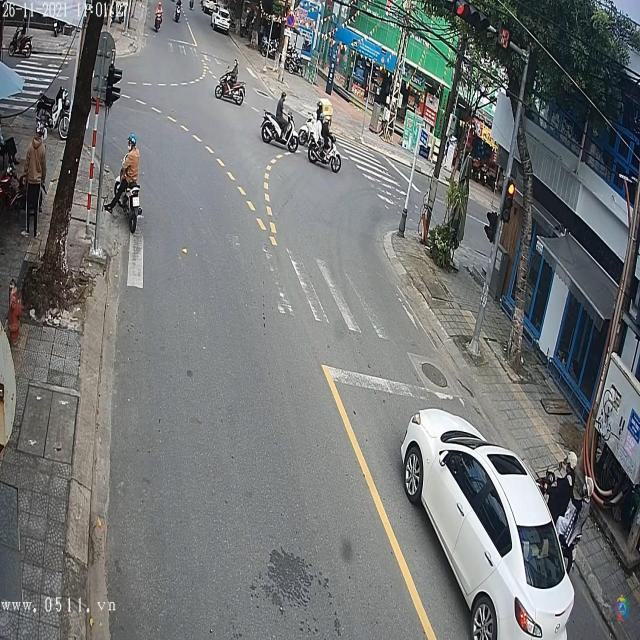car: (399, 406, 582, 639)
motorcycle: (112, 156, 145, 233), (304, 126, 340, 173), (261, 110, 297, 149), (216, 78, 246, 105)
